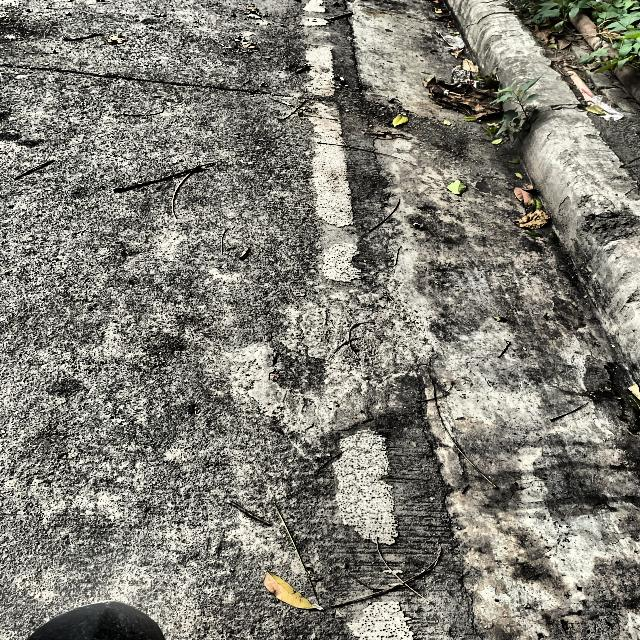no_or_faded_road_markings: (332, 429, 414, 640), (303, 290, 377, 429), (306, 46, 354, 229), (319, 241, 364, 284)
